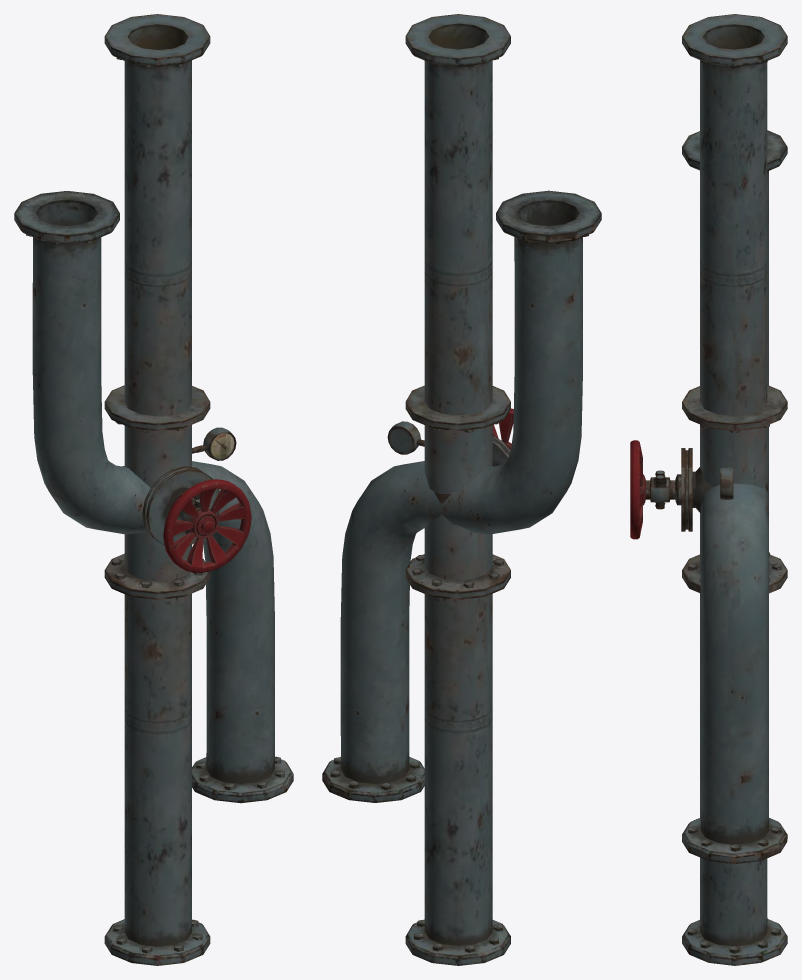
The model's file is modular_industrial_pipes_01.glb.
The picture shows the model from 3 angles, left to right: view 1: azimuth 30°, elevation 25°; view 2: azimuth 150°, elevation 25°; view 3: azimuth 270°, elevation 25°; orthographic projection.
Parts seen in each view (by area): view 1: modular_industrial_pipes_01_pipe02, modular_industrial_pipes_01_pipe03, modular_industrial_pipes_01_pipe08; view 2: modular_industrial_pipes_01_pipe02, modular_industrial_pipes_01_pipe03, modular_industrial_pipes_01_pipe08; view 3: modular_industrial_pipes_01_pipe02, modular_industrial_pipes_01_pipe03, modular_industrial_pipes_01_pipe08.
Boxes of the visible parts, x1=… form: modular_industrial_pipes_01_pipe02: x1=104, y1=14, x2=210, y2=965; modular_industrial_pipes_01_pipe03: x1=14, y1=191, x2=293, y2=803; modular_industrial_pipes_01_pipe08: x1=104, y1=385, x2=251, y2=599; modular_industrial_pipes_01_pipe02: x1=405, y1=14, x2=510, y2=965; modular_industrial_pipes_01_pipe03: x1=322, y1=190, x2=601, y2=802; modular_industrial_pipes_01_pipe08: x1=387, y1=385, x2=513, y2=599; modular_industrial_pipes_01_pipe02: x1=682, y1=14, x2=787, y2=965; modular_industrial_pipes_01_pipe03: x1=682, y1=130, x2=787, y2=863; modular_industrial_pipes_01_pipe08: x1=630, y1=385, x2=787, y2=593.
Size of the model in its own units: 0.5987 by 1.95 by 0.3076.
Materials: 2 (2 with a texture image).
